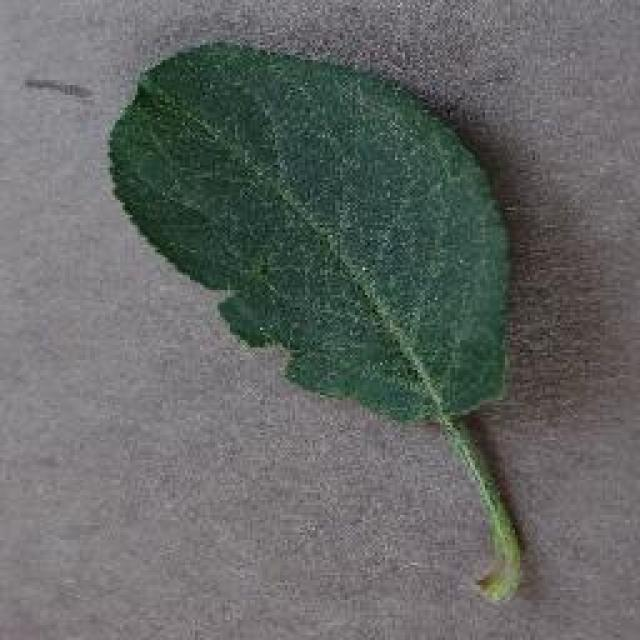apple healthy: (105, 35, 527, 603)
